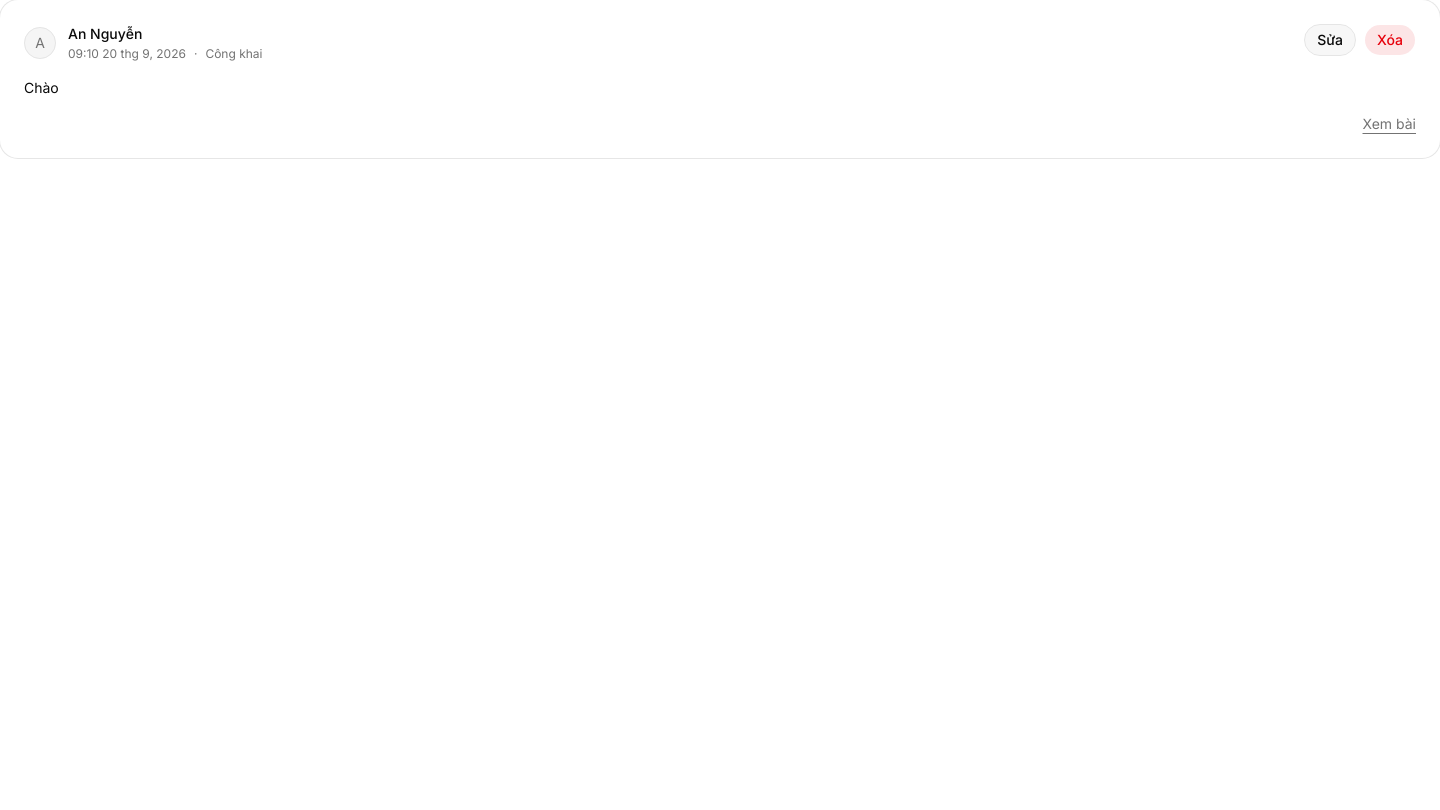
Test case: PostItem — sửa bài › gõ rồi xóa về đúng giá trị cũ thì Lưu TẮT lại — so với giá trị BAN ĐẦU
Click the button "Sửa": (1330, 40) [1304,24,1356,56]
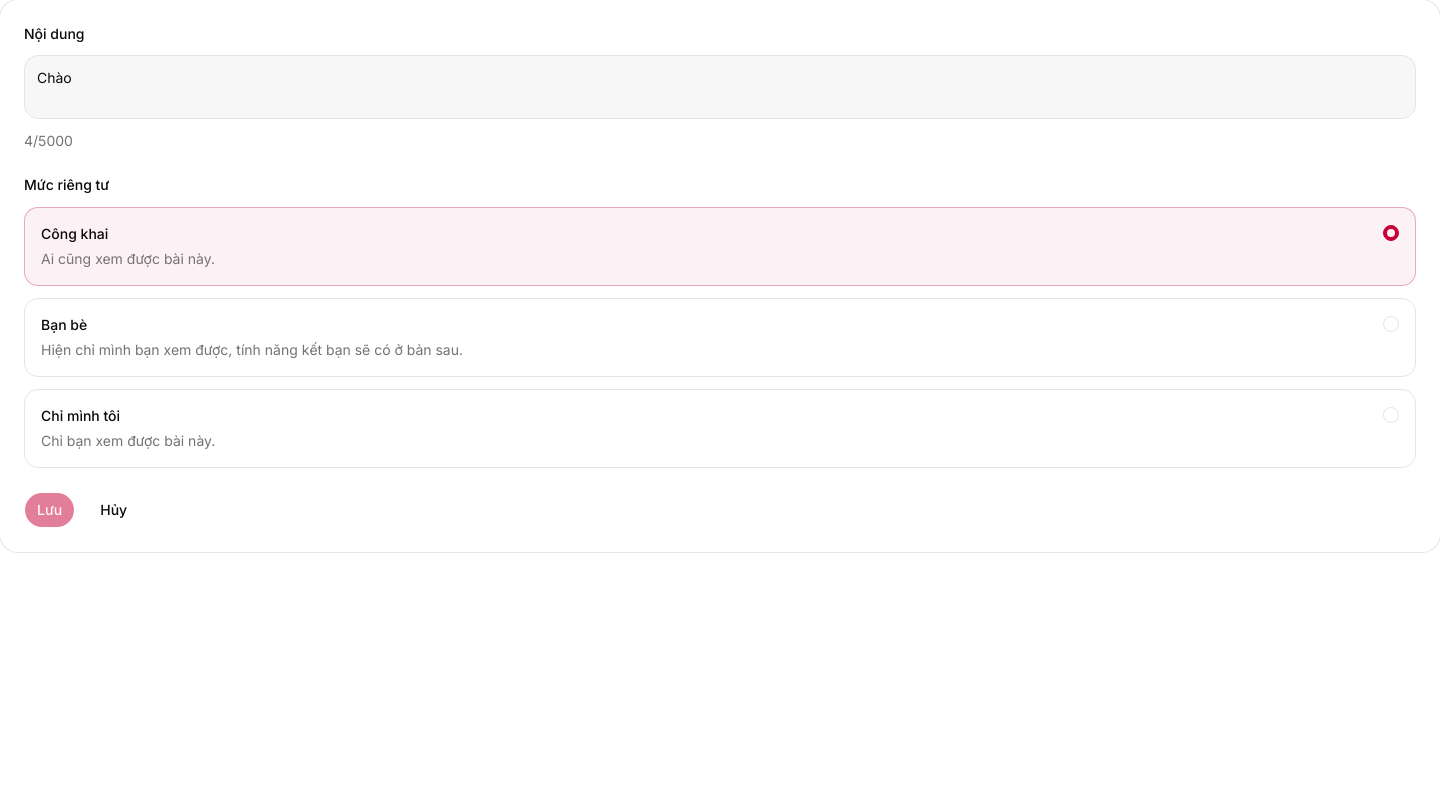
In the text box labelled "Nội dung": (720, 87) [24,55,1416,119], type "!"
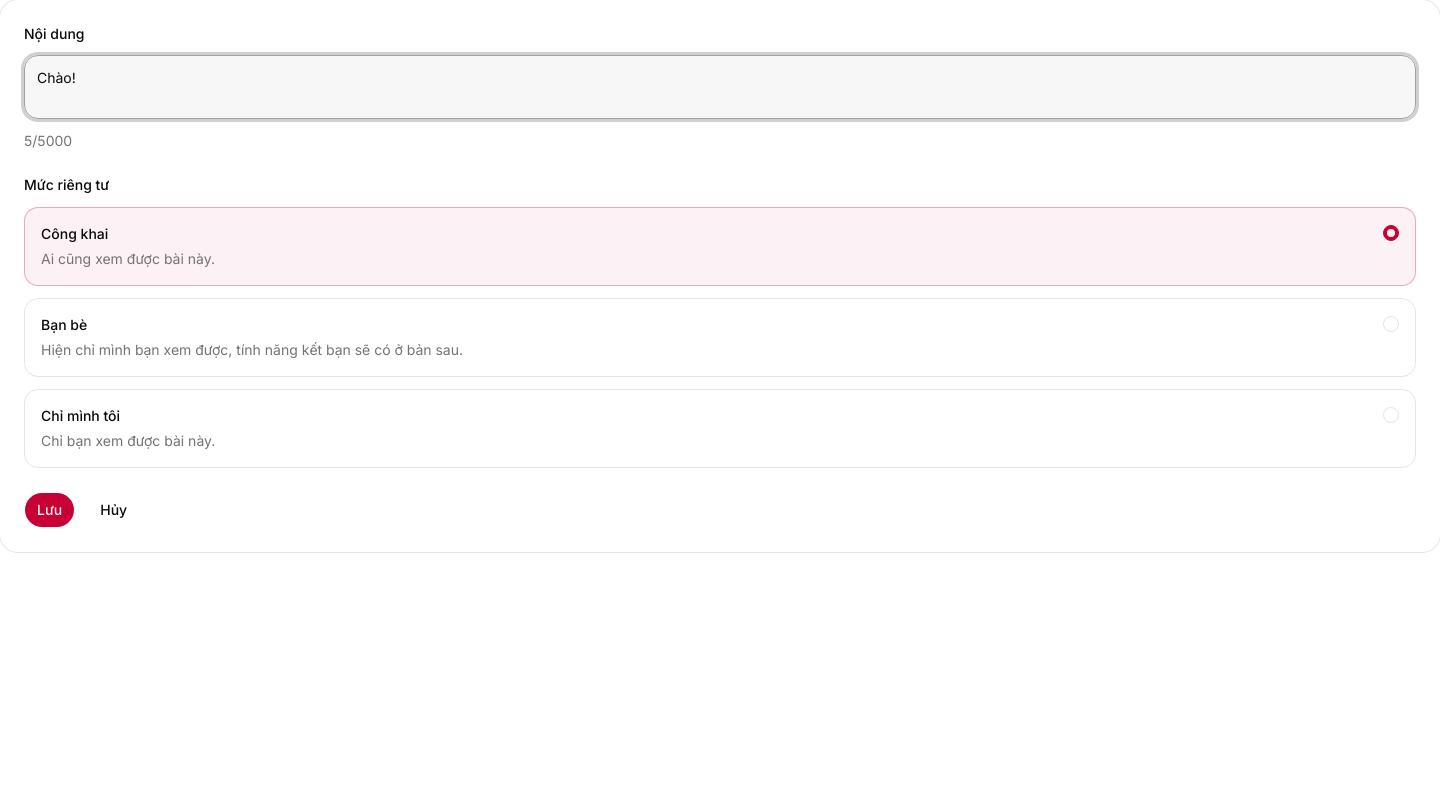
Expected: the button "Lưu" is enabled, [24,492,75,528]
Replace the text in the text box labelled "Nội dung" with "Chào": (720, 87) [24,55,1416,119]
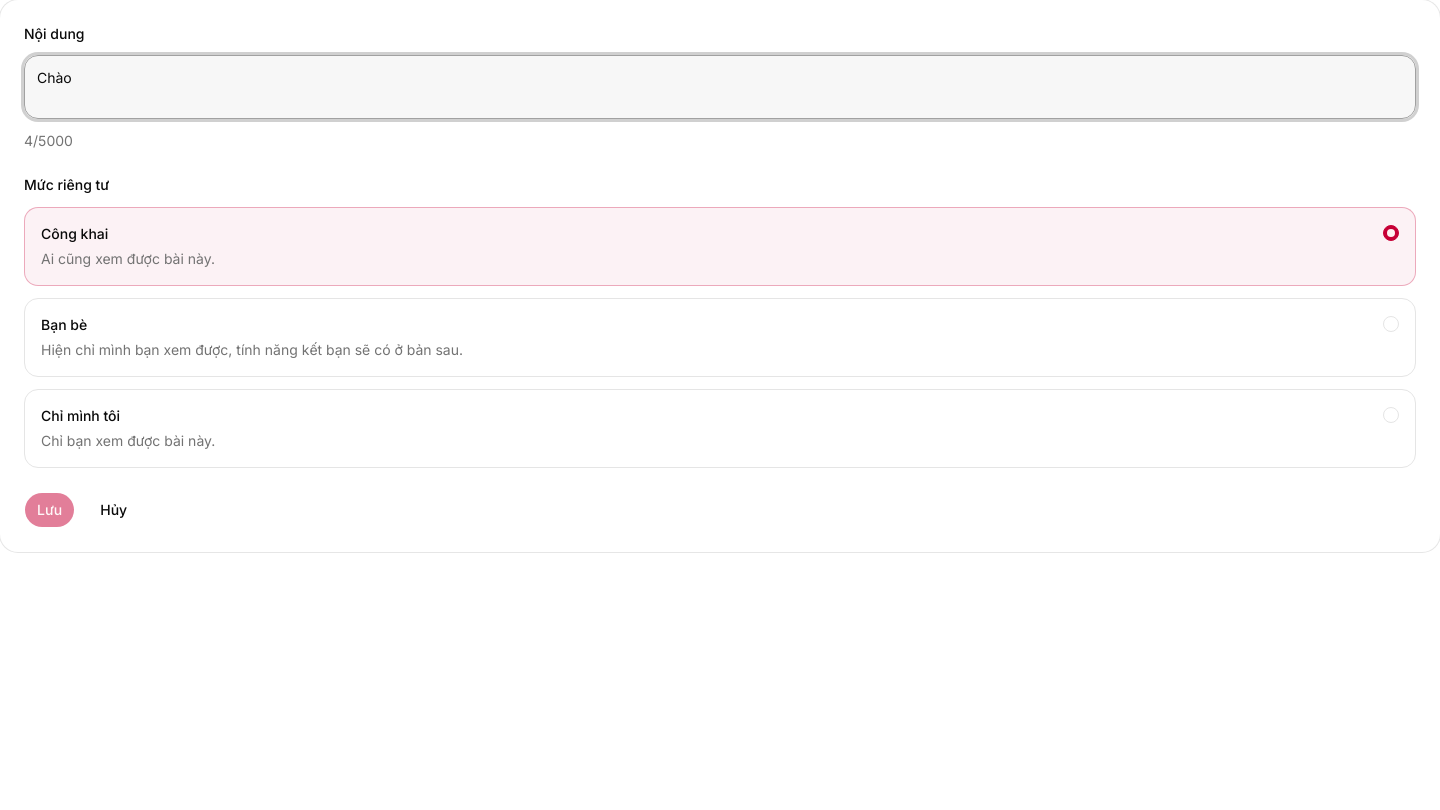
Expected: the button "Lưu" is disabled, [24,492,75,528]
